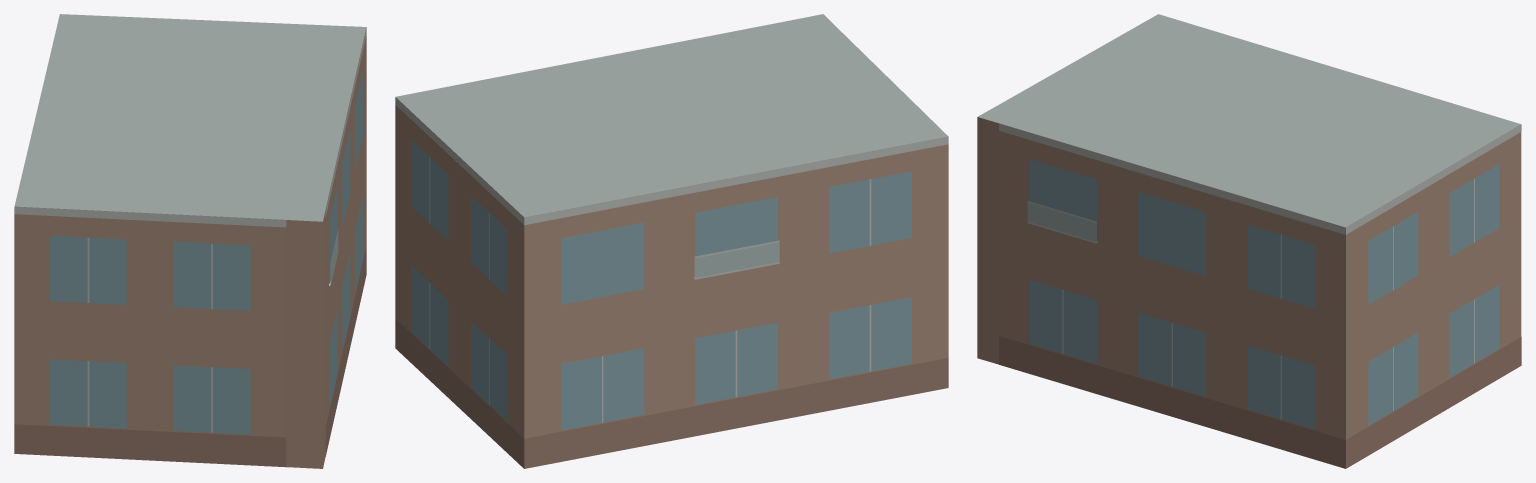
Rendered from survey-upis-32939350.glb.
3 renders of one model, left to right at view 1: azimuth 30°, elevation 25°; view 2: azimuth 150°, elevation 25°; view 3: azimuth 270°, elevation 25°, orthographic. The views are drawn at different scales.
Parts seen in each view (by area): view 1: survey-upis-32939350.tmp; view 2: survey-upis-32939350.tmp; view 3: survey-upis-32939350.tmp.
Part boxes in pixels (x1=…): survey-upis-32939350.tmp: x1=14, y1=14, x2=366, y2=468; survey-upis-32939350.tmp: x1=395, y1=14, x2=948, y2=468; survey-upis-32939350.tmp: x1=977, y1=14, x2=1521, y2=468.
Bounding box in the file's own units: 14.99 × 7.9 × 16.14.
